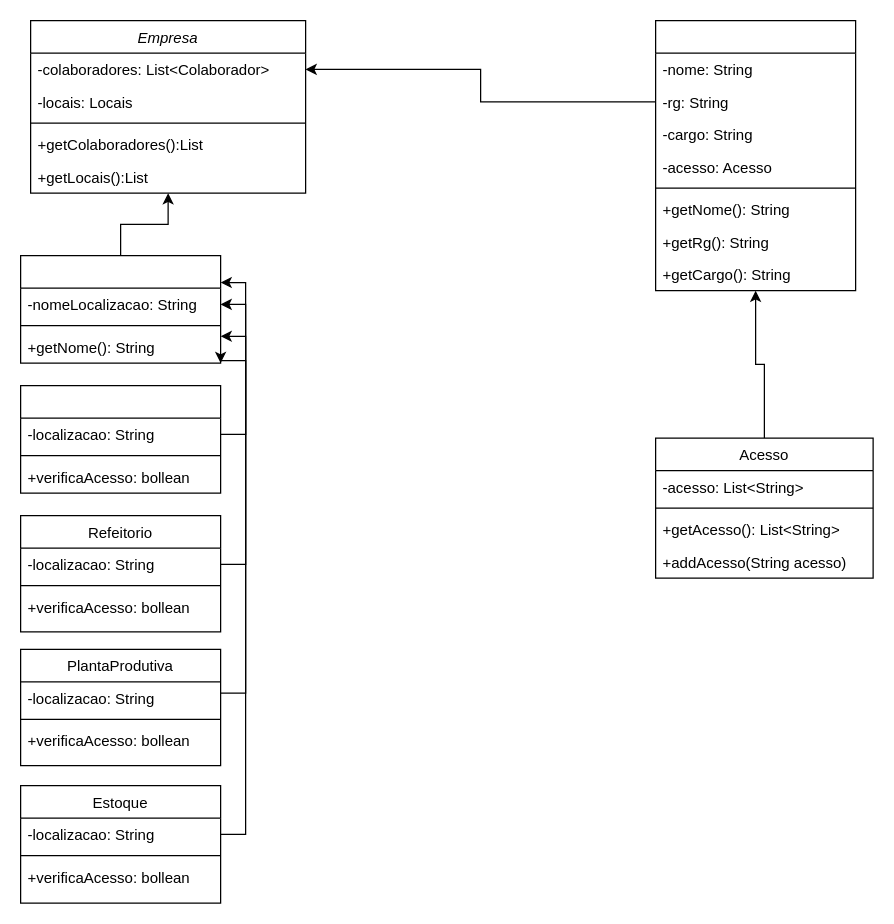
This 894x924 diagram has some shape labels left out. Each missing label, with the box of its shape:
Colaborador: (654, 19, 856, 291)
Locais: (19, 254, 221, 363)
Patio: (19, 384, 221, 493)
